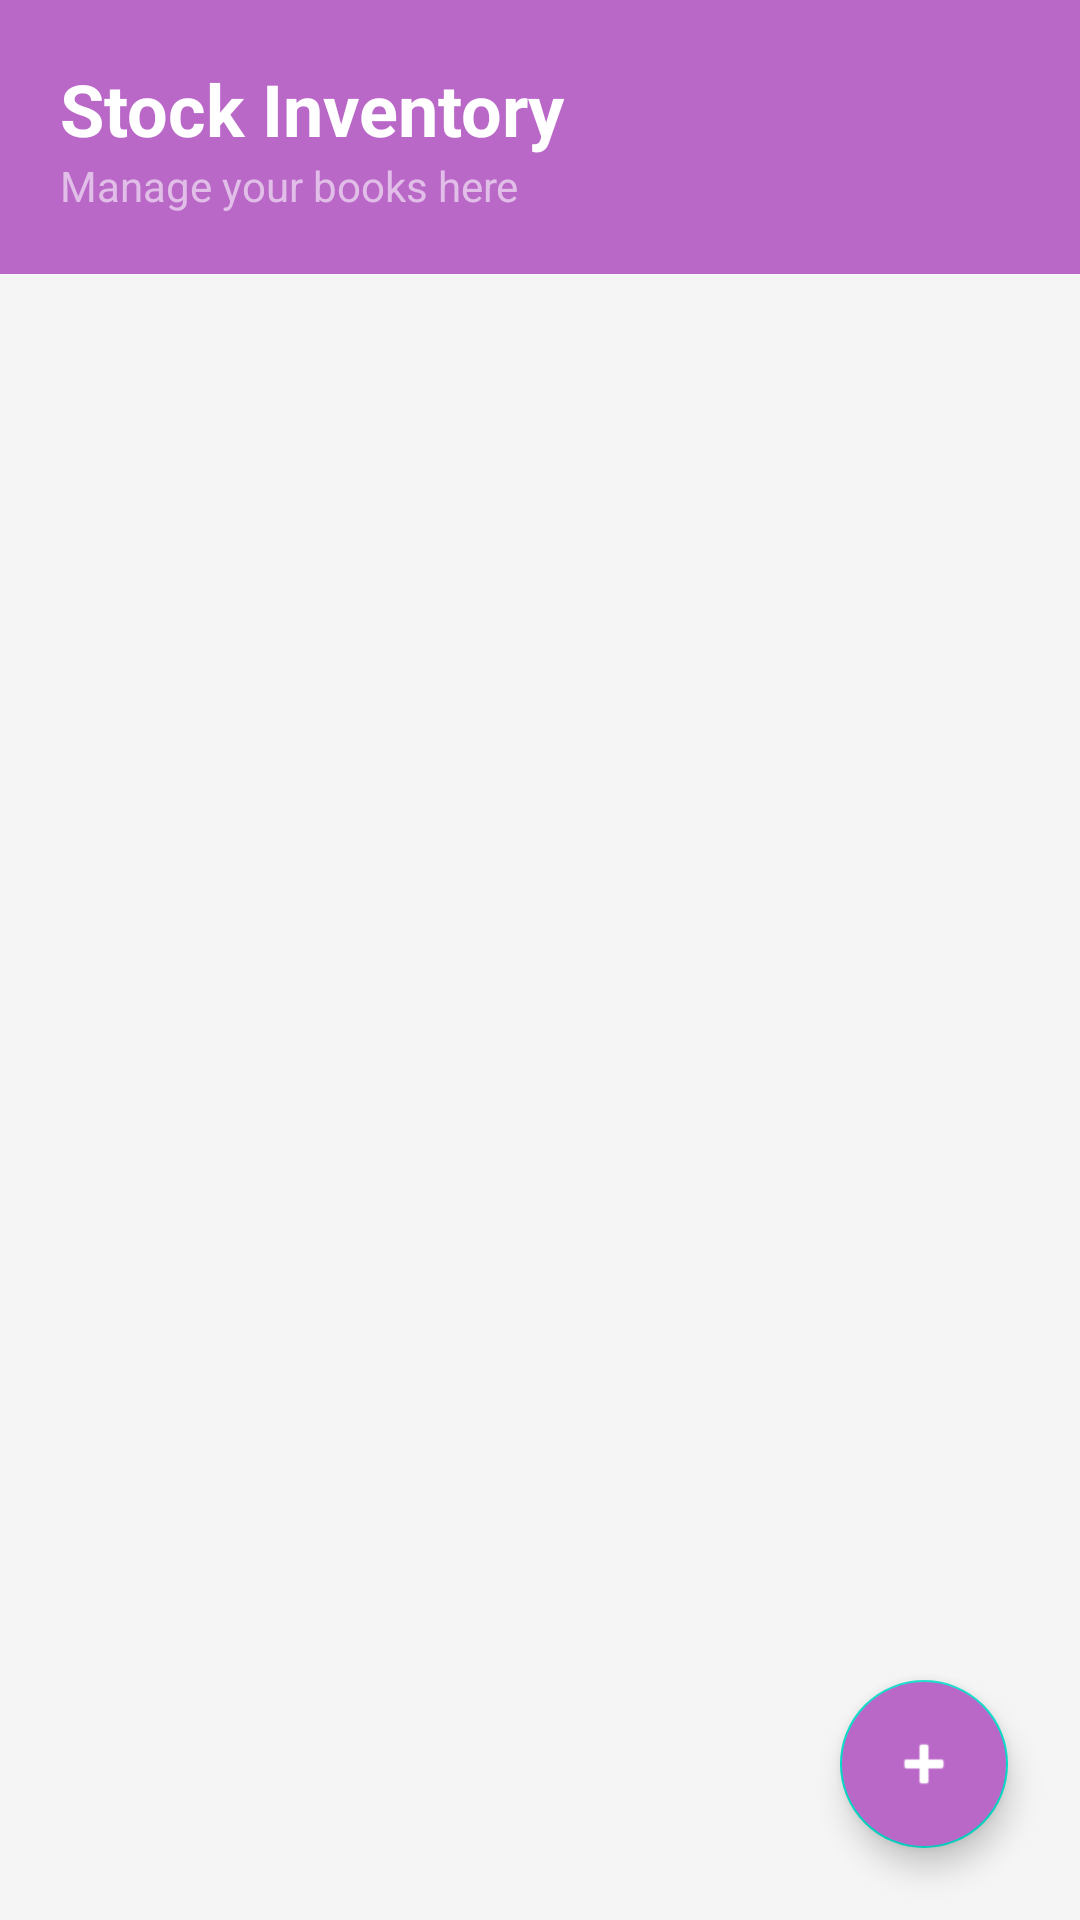

Named icons in this screenshot (1080 x 1920) and their bounding boxes, (x1, y1, x2, y2):
Add Book: (840, 1680, 1008, 1848)
